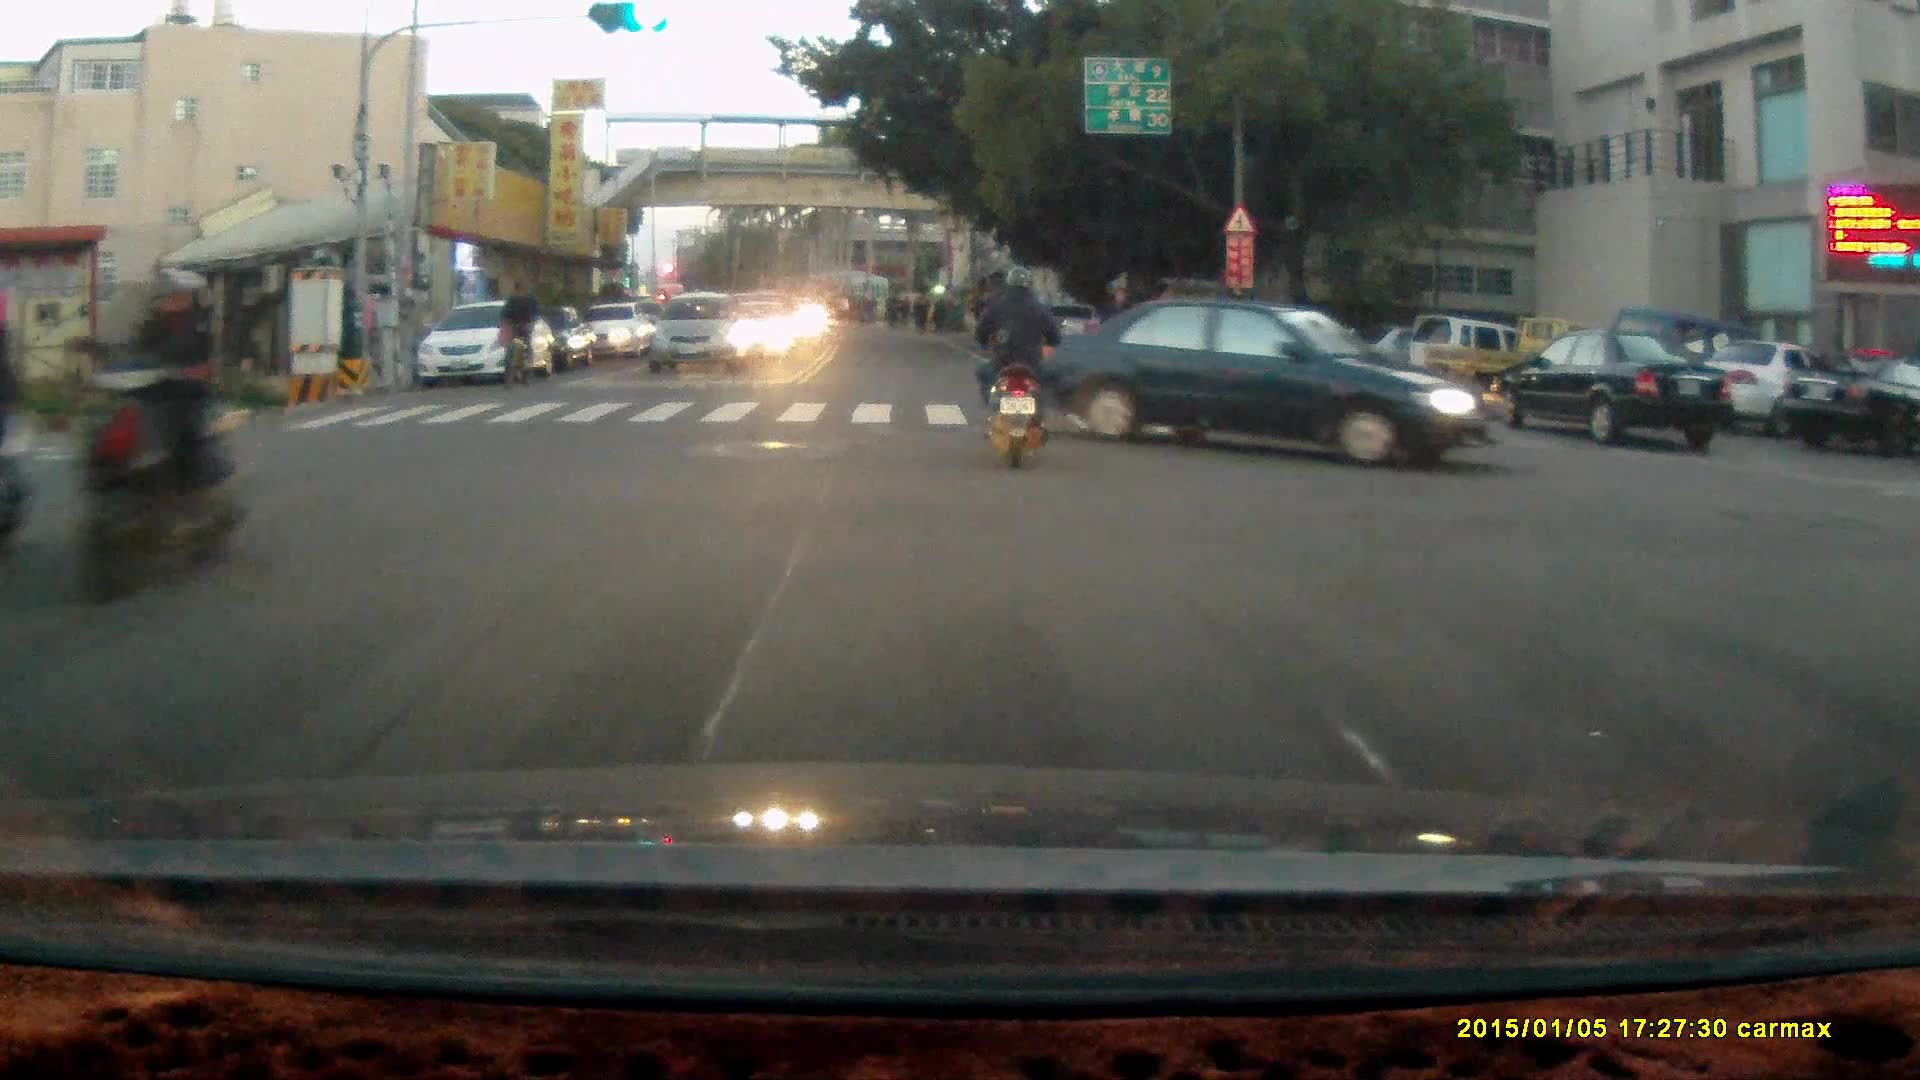rider: (70, 264, 246, 608), (971, 264, 1065, 467), (496, 276, 538, 385)
vehicle: (1014, 289, 1498, 473), (1499, 328, 1735, 454), (1412, 316, 1636, 410), (1682, 337, 1871, 440), (1778, 352, 1920, 456), (416, 293, 560, 385), (645, 292, 756, 376)
